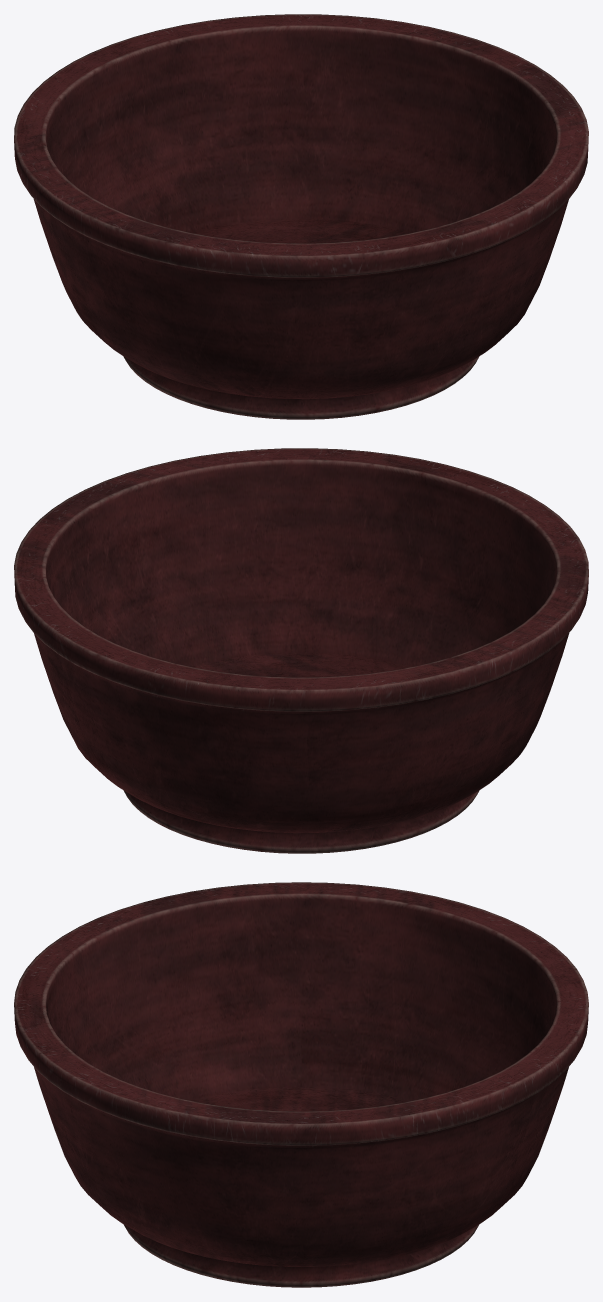
Rendered from SM_CookieBowl352.fbx.
3 views of the same model, one above another, from view 1: azimuth 30°, elevation 25°; view 2: azimuth 150°, elevation 25°; view 3: azimuth 270°, elevation 25° (orthographic).
Parts seen in each view (by area): view 1: SM_CookieBowl352; view 2: SM_CookieBowl352; view 3: SM_CookieBowl352.
Boxes of the visible parts, x1,y1,x2,y2 form: SM_CookieBowl352: (14, 14, 588, 419); SM_CookieBowl352: (14, 448, 588, 853); SM_CookieBowl352: (14, 882, 588, 1287).
Bounding box in the file's own units: 19.07 × 7.63 × 19.07.
